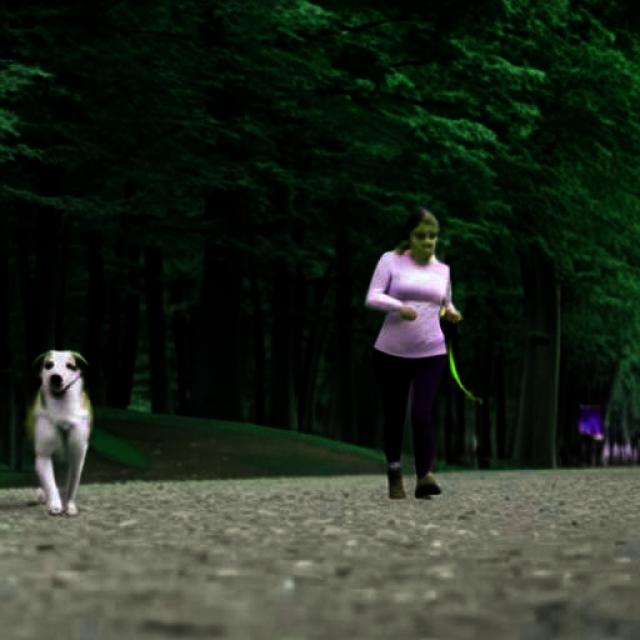Unleashed_Dog: (24, 350, 448, 515)
